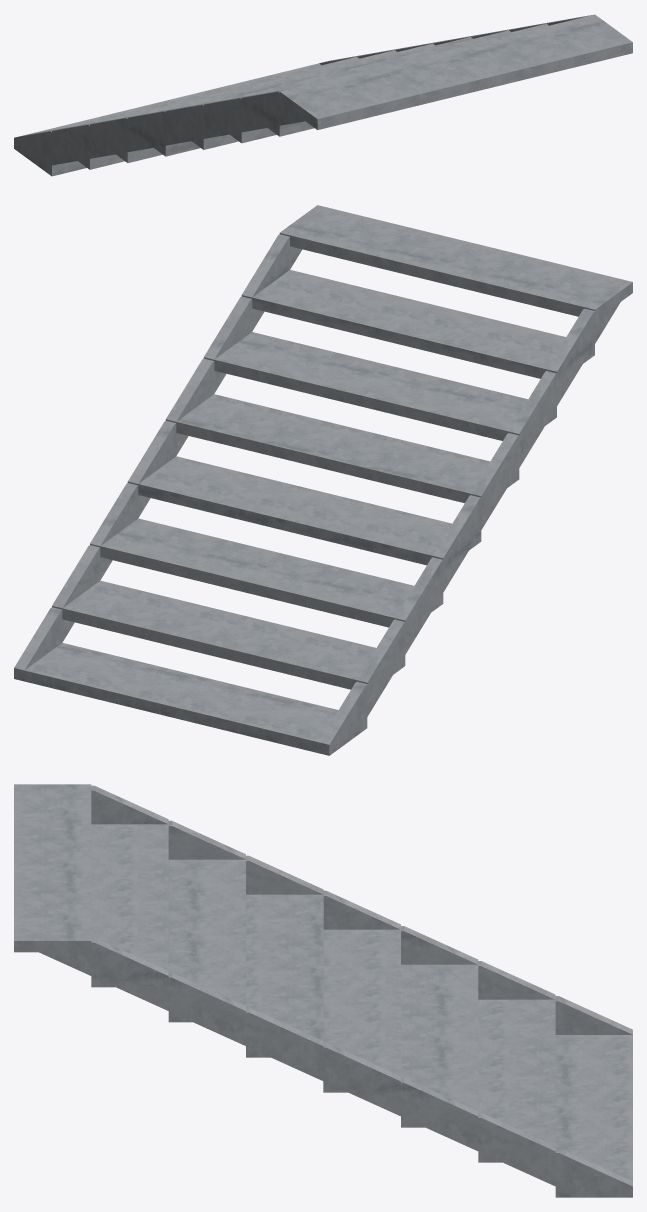
The model's file is Control-Room-Stair-Upper.obj.
3 renders of one model, top to bottom at view 1: azimuth 30°, elevation 25°; view 2: azimuth 150°, elevation 25°; view 3: azimuth 270°, elevation 25°, orthographic.
Visible parts, largest first — view 1: Control-Room-Stair-Upper; view 2: Control-Room-Stair-Upper; view 3: Control-Room-Stair-Upper.
Part boxes in pixels (bbox=[...]): Control-Room-Stair-Upper: bbox=[14, 14, 632, 176]; Control-Room-Stair-Upper: bbox=[14, 205, 632, 755]; Control-Room-Stair-Upper: bbox=[14, 784, 632, 1197].
Bounding box in the file's own units: 3 × 2.29 × 5.
